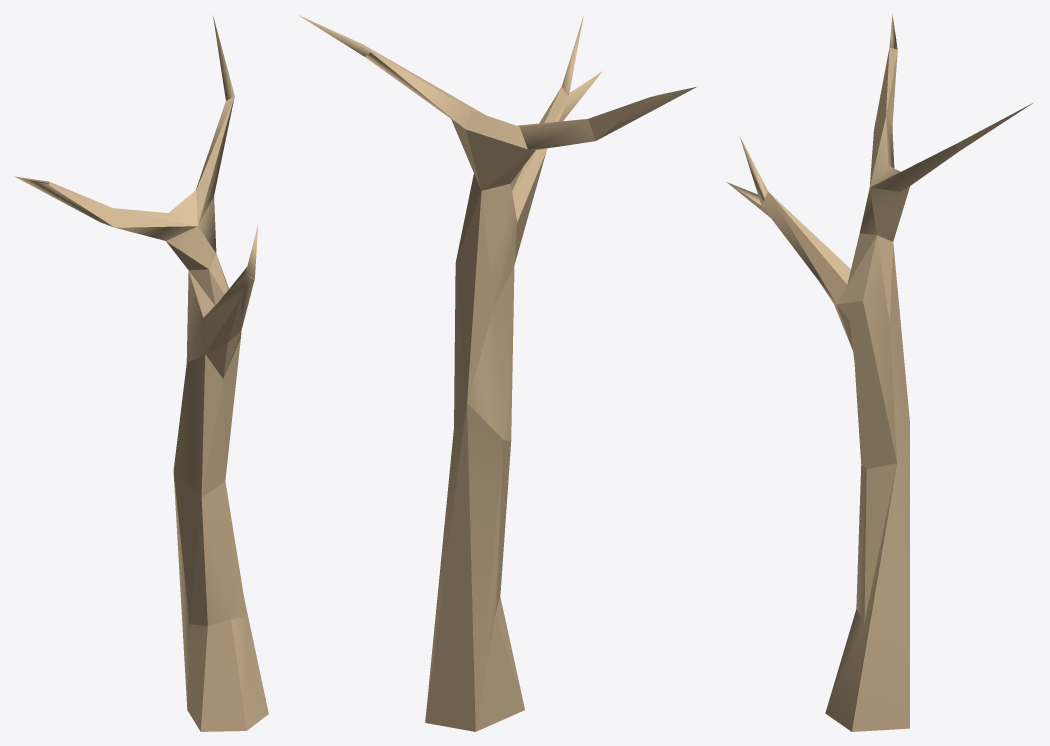
The model's file is DriedbigtoothD.fbx.
3 views of the same model, side by side, from view 1: azimuth 30°, elevation 25°; view 2: azimuth 150°, elevation 25°; view 3: azimuth 270°, elevation 25° (orthographic). The views are drawn at different scales.
Parts seen in each view (by area): view 1: trunk.004; view 2: trunk.004; view 3: trunk.004.
Boxes of the visible parts, x1,y1,x2,y2 form: trunk.004: (15, 16, 268, 731); trunk.004: (298, 15, 696, 731); trunk.004: (727, 14, 1032, 731).
Size of the model in its own units: 309 by 693 by 299.
